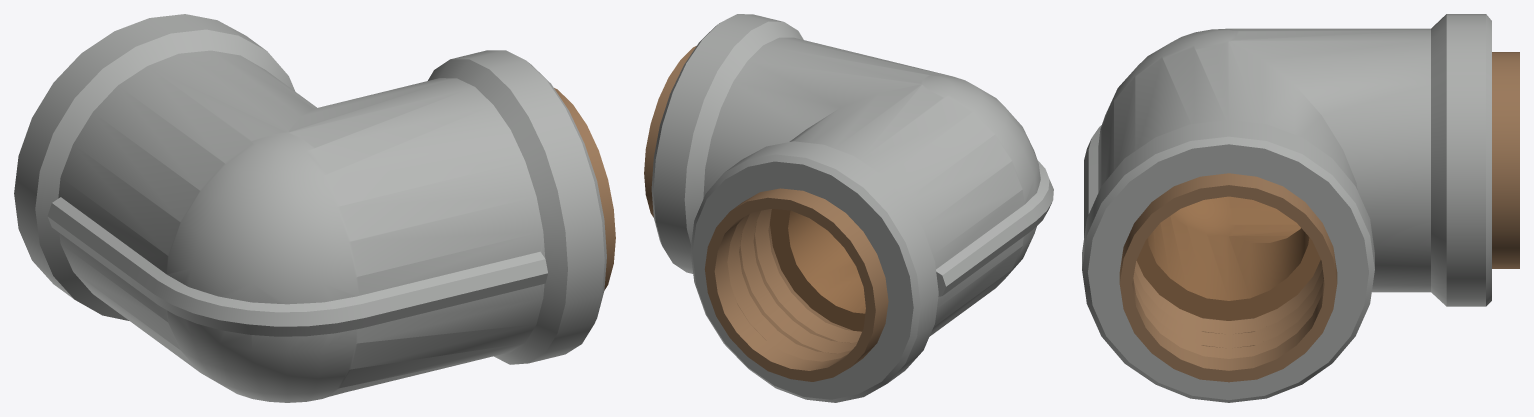
Rendered from pipes_supply__water-well_and_softener-no_and_plumbing-galvanized_and_shutoff_extra-wall.glb.
3 renders of one model, left to right at view 1: azimuth 30°, elevation 25°; view 2: azimuth 150°, elevation 25°; view 3: azimuth 270°, elevation 25°, orthographic. The views are drawn at different scales.
Parts seen in each view (by area): view 1: fit_elbow_pipe_supply_well_to_house__galvanized.901; view 2: fit_elbow_pipe_supply_well_to_house__galvanized.901; view 3: fit_elbow_pipe_supply_well_to_house__galvanized.901.
Part boxes in pixels (<box>): fit_elbow_pipe_supply_well_to_house__galvanized.901: <box>14,14,615,402</box>; fit_elbow_pipe_supply_well_to_house__galvanized.901: <box>644,14,1053,402</box>; fit_elbow_pipe_supply_well_to_house__galvanized.901: <box>1082,14,1519,402</box>.
Bounding box in the file's own units: 0.0553 × 0.0371 × 0.0553.
